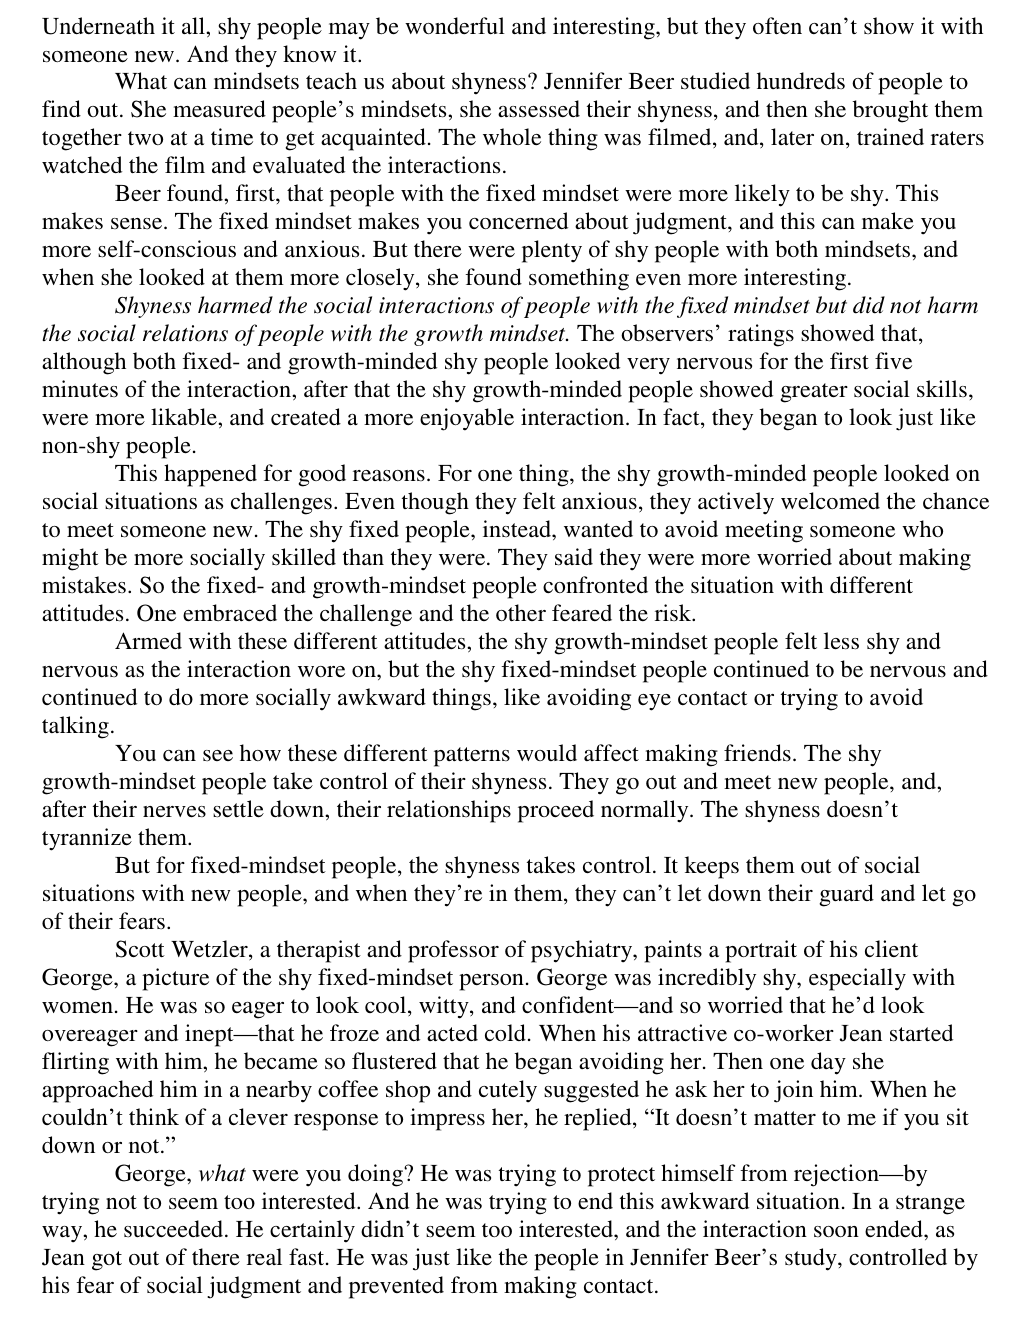latin: (34, 852, 982, 1154), (28, 627, 994, 850), (34, 456, 996, 627), (38, 17, 989, 185), (37, 292, 988, 459), (28, 1154, 979, 1296), (30, 183, 962, 292)
